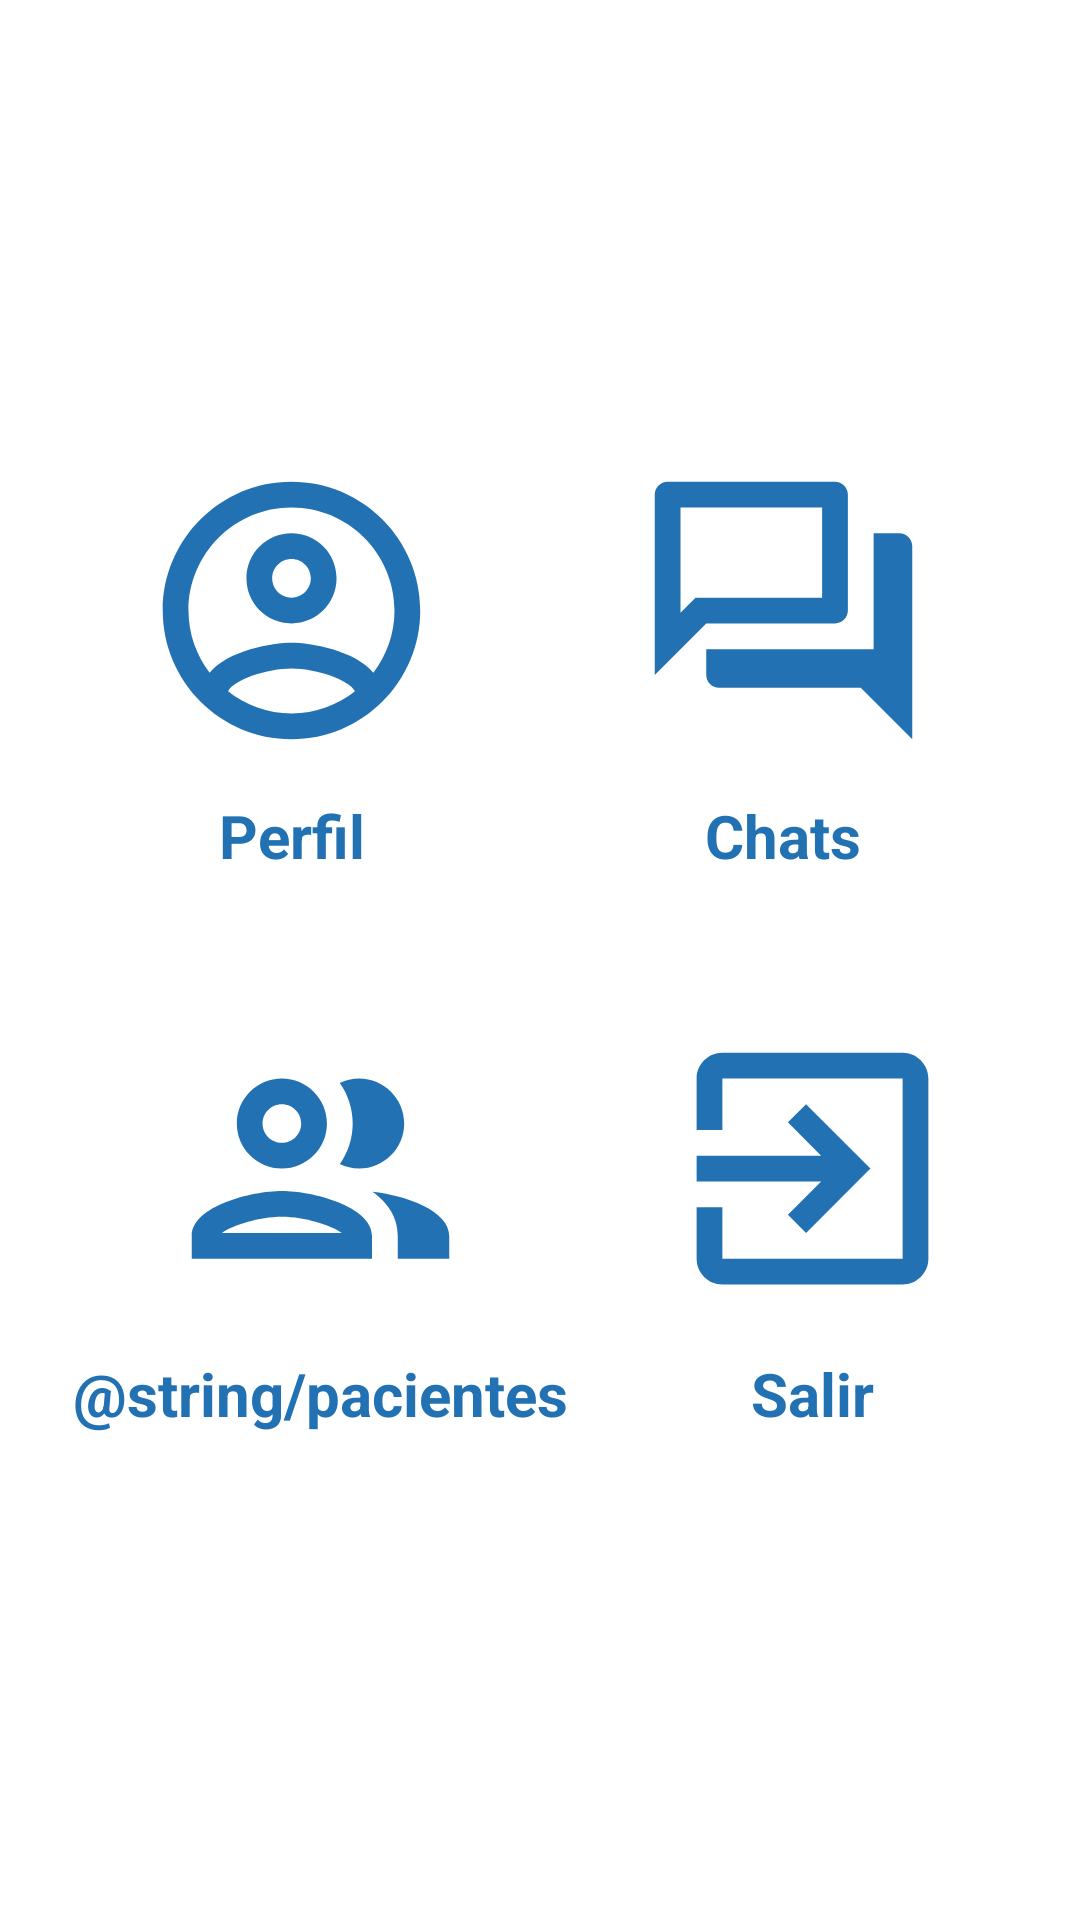

Icon bounding boxes for this 1080*1920 phone screenshot, format (x1, y1, x2, y2):
account circle: (162, 481, 421, 740)
exit to app: (696, 1052, 929, 1285)
people: (191, 1078, 450, 1259)
question answer: (654, 481, 913, 739)
